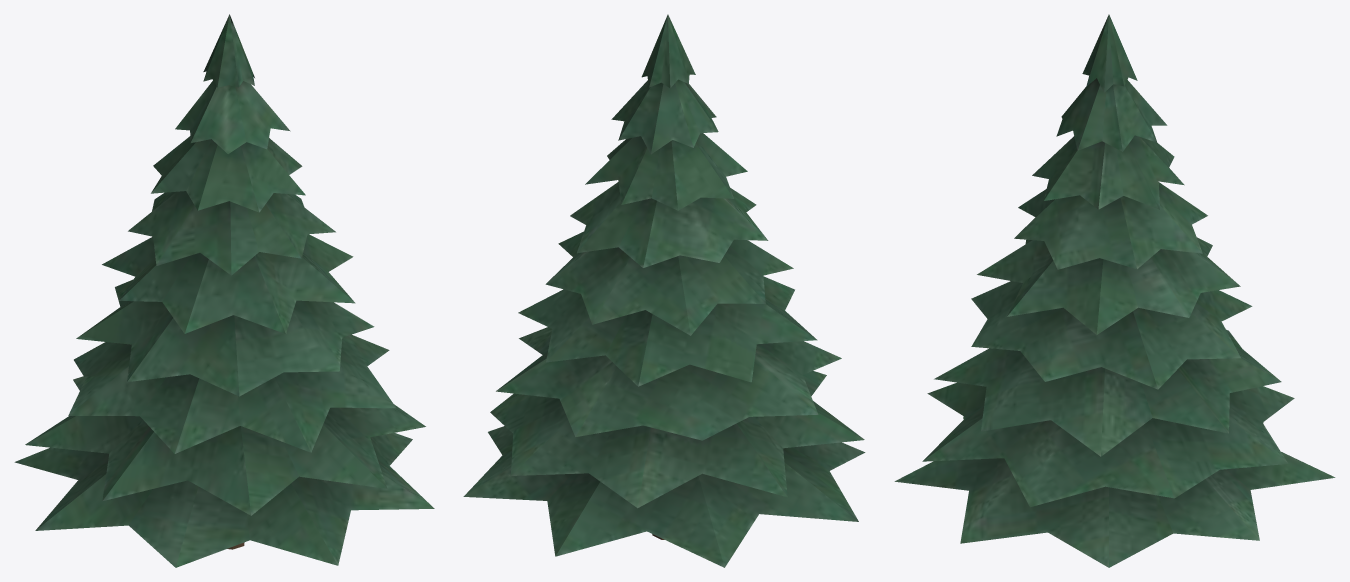
Rendered from pinheiro.glb.
The picture shows the model from 3 angles, left to right: view 1: azimuth 30°, elevation 25°; view 2: azimuth 150°, elevation 25°; view 3: azimuth 270°, elevation 25°; orthographic projection.
Visible parts, largest first — view 1: pinheiro; view 2: pinheiro; view 3: pinheiro.
Boxes of the visible parts, x1,y1,x2,y2 form: pinheiro: (14,14,434,567); pinheiro: (463,14,865,567); pinheiro: (894,14,1335,567).
Size of the model in its own units: 5.31 by 7.1 by 5.43.
1 material, 1 textured.
